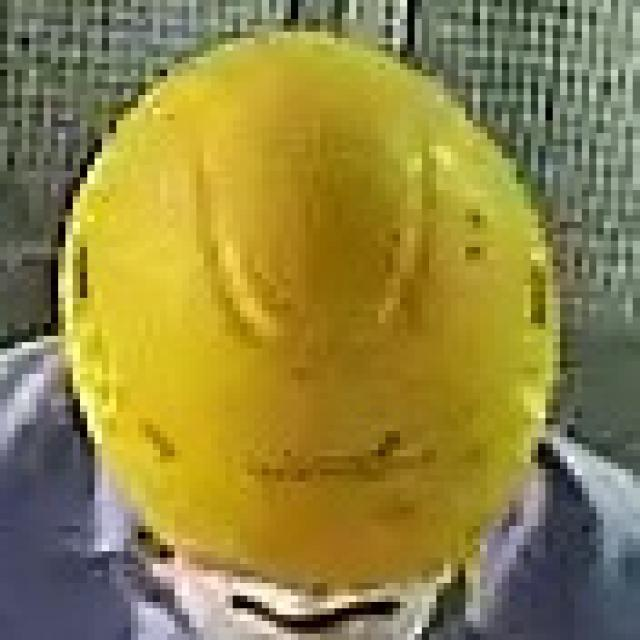yellow helmet: (66, 26, 571, 578)
